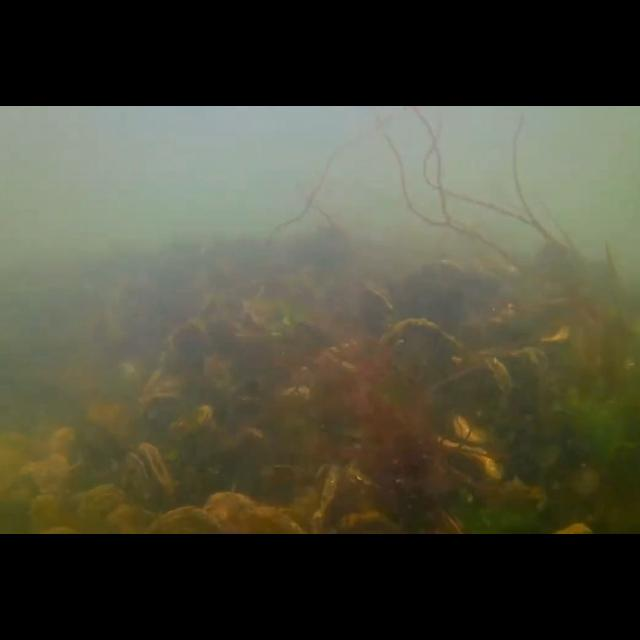Oyster-Closed: (376, 317, 470, 377), (424, 358, 514, 410), (202, 490, 302, 534), (434, 436, 504, 479), (76, 484, 130, 534), (481, 348, 554, 382), (453, 414, 503, 444)
Oyster-Open: (118, 442, 172, 532), (308, 460, 344, 530), (363, 280, 397, 346), (164, 404, 216, 441), (139, 375, 189, 409), (340, 463, 388, 493)
